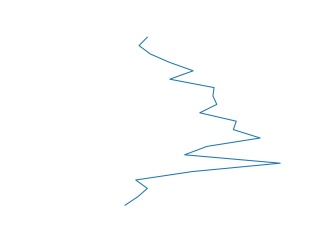floodSwamp: (119, 36, 283, 207)
